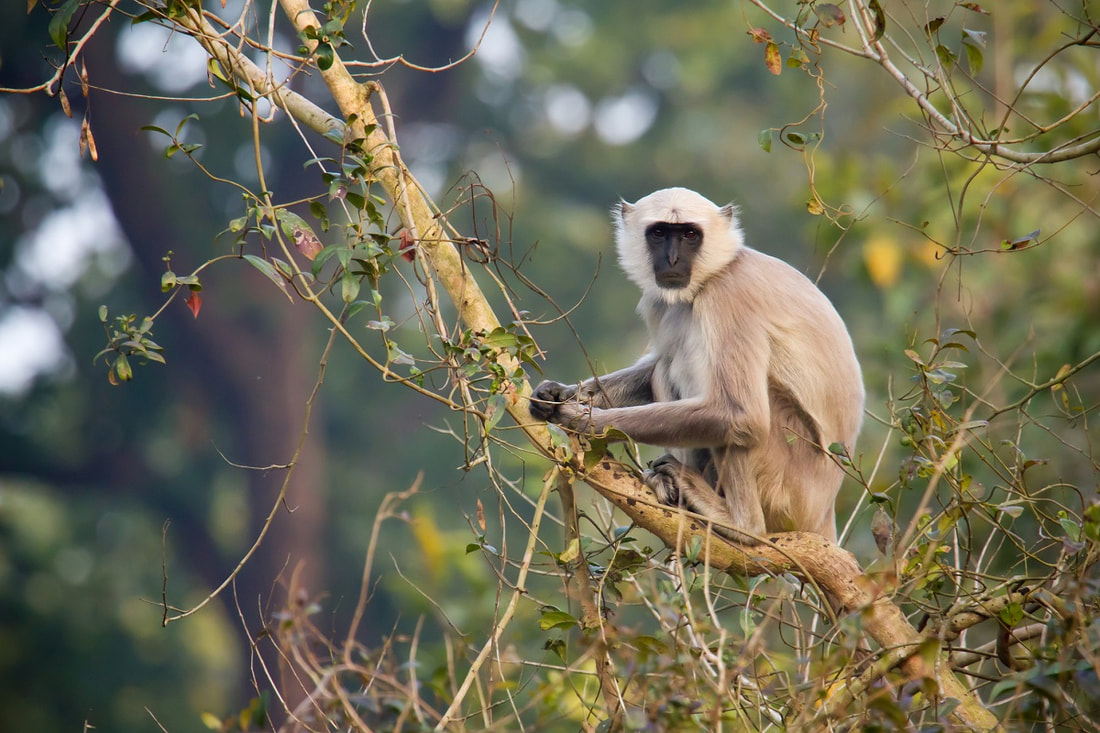monkey: (525, 173, 906, 616)
